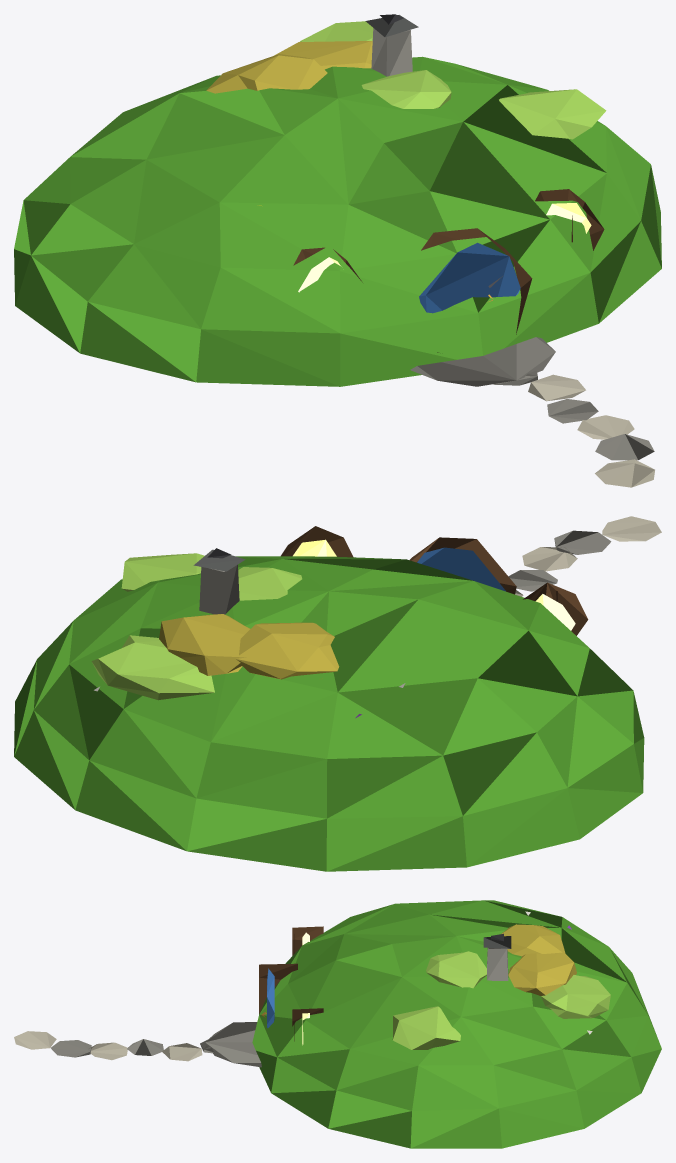
File: hobbit_hole_4_lod1.glb
3 renders of one model, top to bottom at view 1: azimuth 30°, elevation 25°; view 2: azimuth 150°, elevation 25°; view 3: azimuth 270°, elevation 25°, orthographic. The views are drawn at different scales.
Parts seen in each view (by area): view 1: hobbit_hole_4_lod1; view 2: hobbit_hole_4_lod1; view 3: hobbit_hole_4_lod1.
Boxes of the visible parts, bbox=[...] form: hobbit_hole_4_lod1: bbox=[14, 14, 661, 487]; hobbit_hole_4_lod1: bbox=[14, 516, 661, 871]; hobbit_hole_4_lod1: bbox=[14, 900, 661, 1148].
Bounding box in the file's own units: 12.09 × 3.99 × 16.61.
